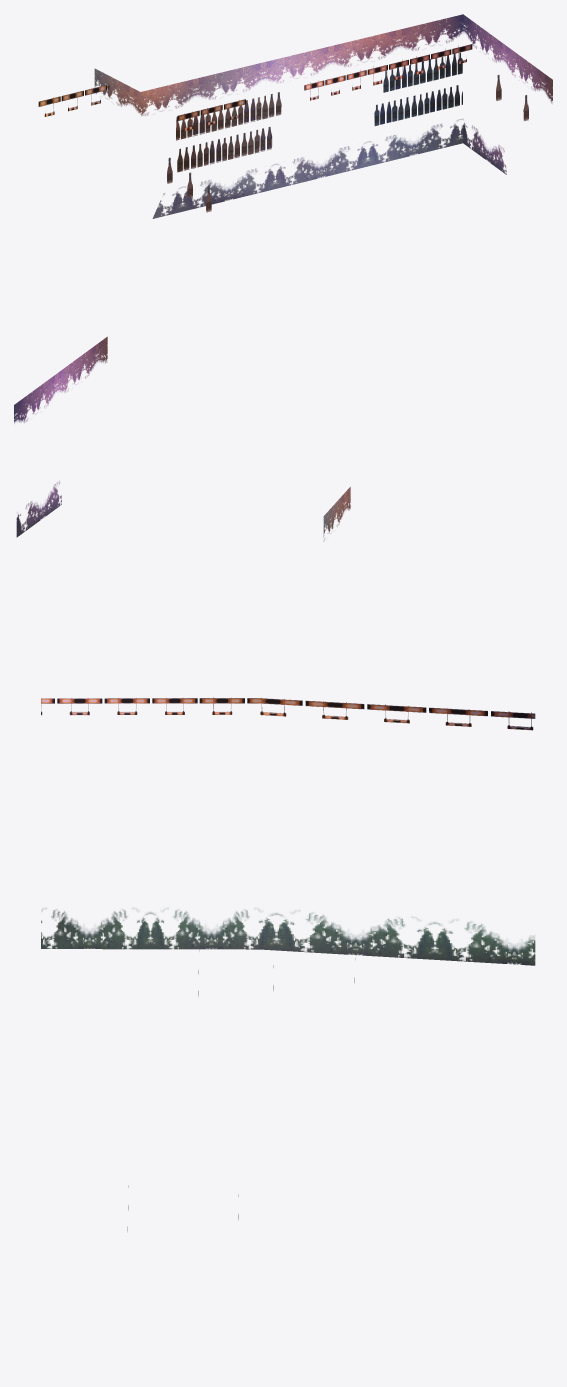
File: bar.glb
3 renders of one model, top to bottom at view 1: azimuth 30°, elevation 25°; view 2: azimuth 150°, elevation 25°; view 3: azimuth 270°, elevation 25°, orthographic. The views are drawn at different scales.
Parts seen in each view (by area): view 1: Plane; view 2: Plane; view 3: Plane.
Boxes of the visible parts, box(x1,y1,x2,y2) form: Plane: box(38, 14, 552, 218); Plane: box(14, 336, 350, 541); Plane: box(41, 697, 535, 1231).
Size of what is drawn, in the model's own units: 13.84 by 3.97 by 7.02.
Materials: 4 (4 with a texture image).
